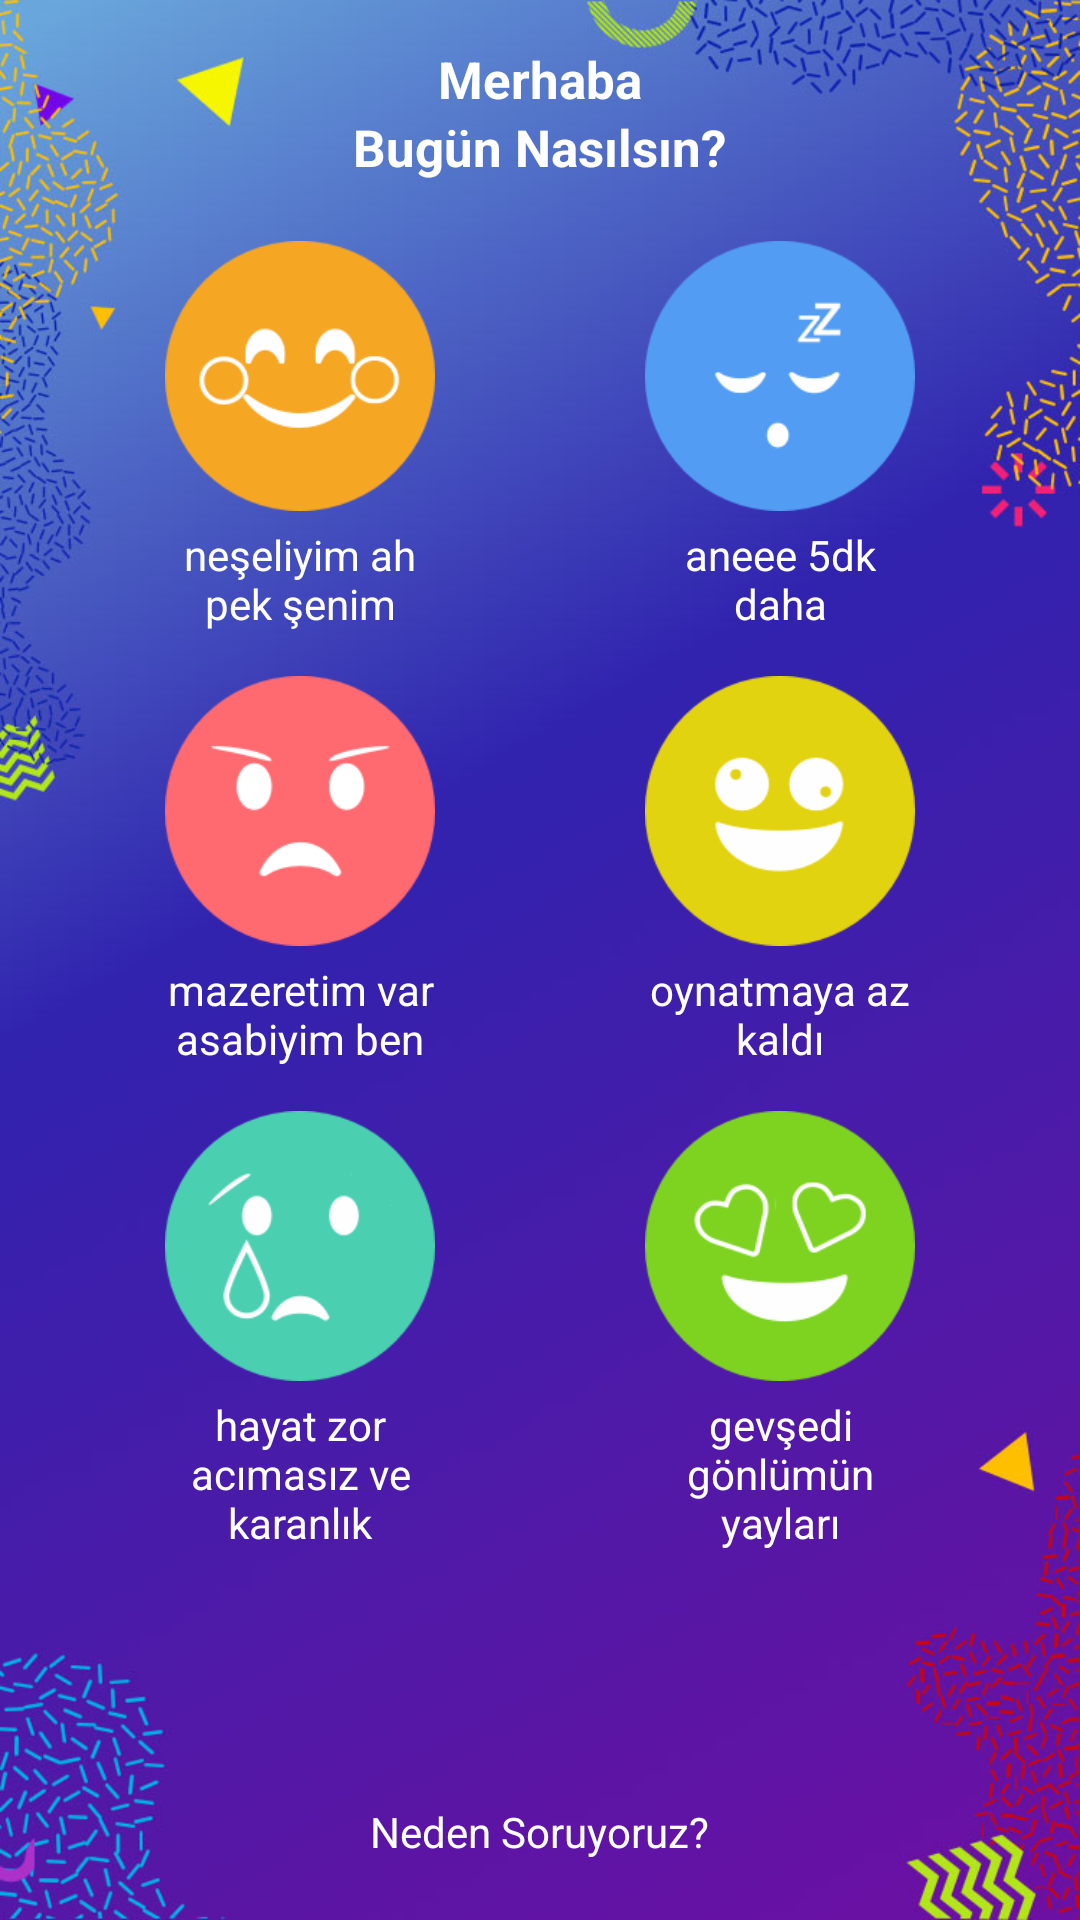

Icon click points for this 1080px x 1920px phone screenshot, format point (x, y):
uyku: point (780, 376)
